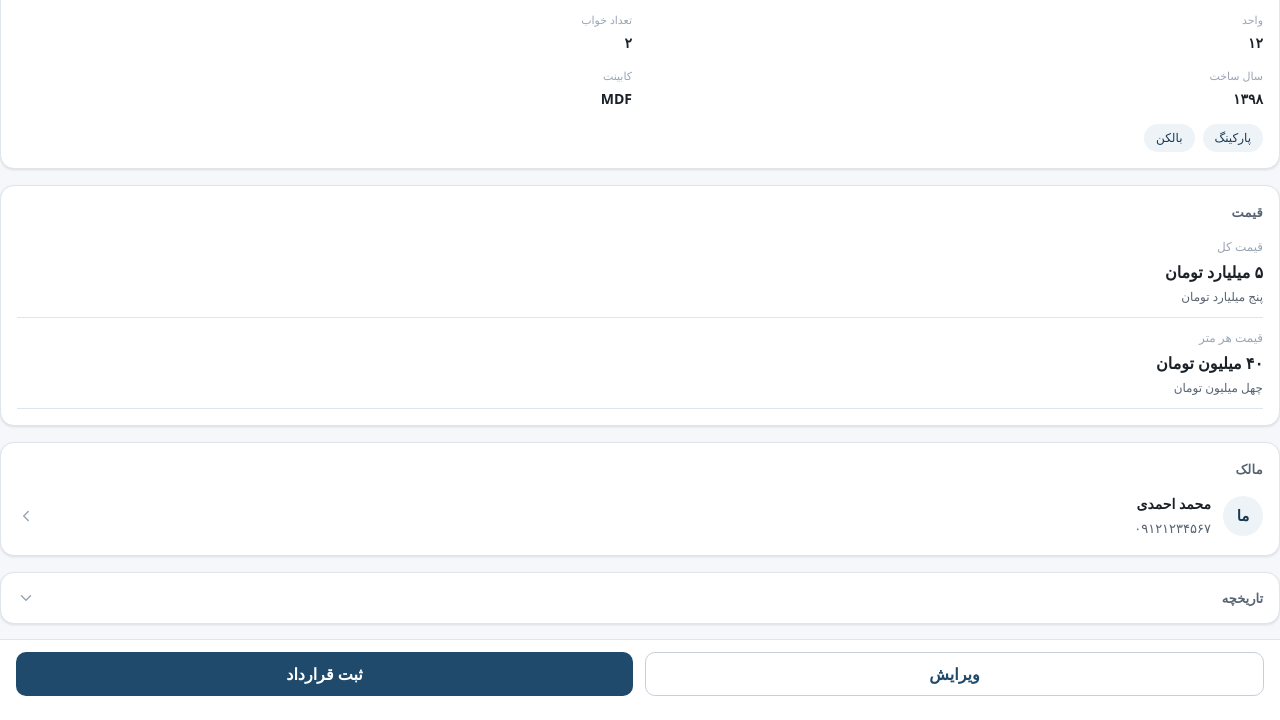
Test: PropertyDetailScreen › renders history entries when available
(page scrolled)
Click the button "تاریخچه": (1242, 598) [17,589,1263,607]
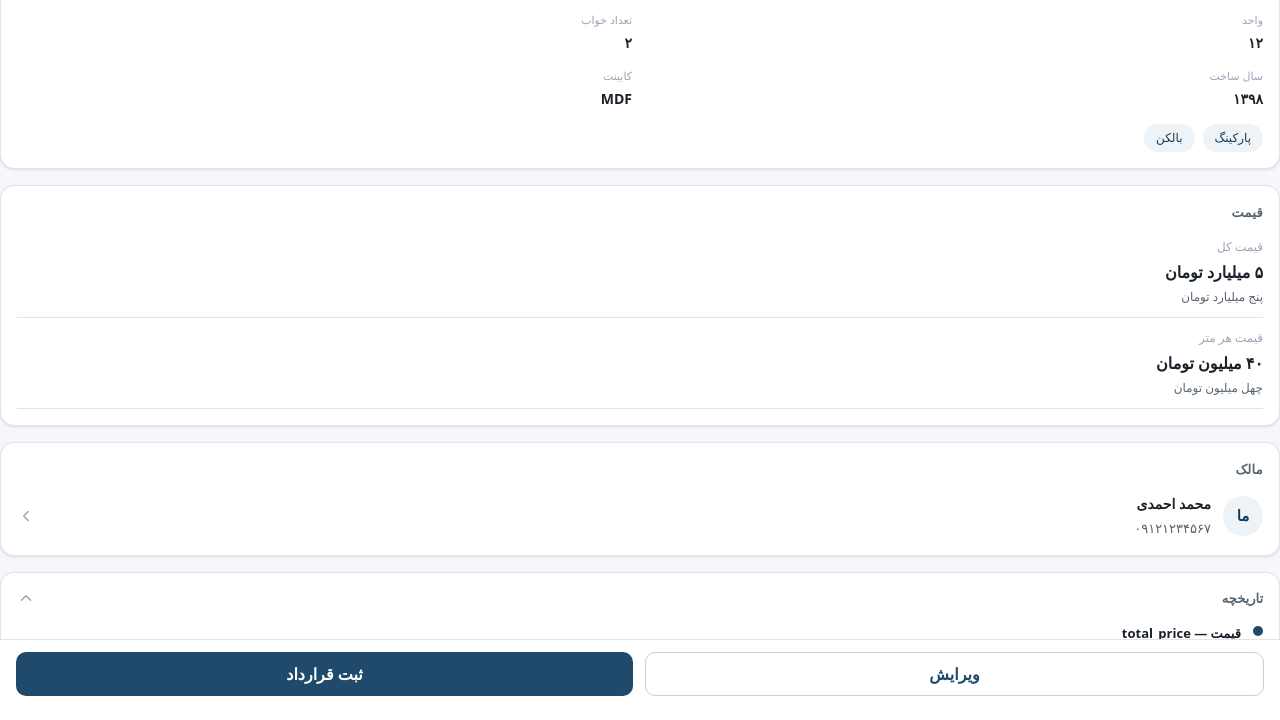
Expected: the text "قیمت" is shown, [1232,203,1263,221]
Expected: the text "قیمت — total_price" is shown, [1122,624,1241,642]
